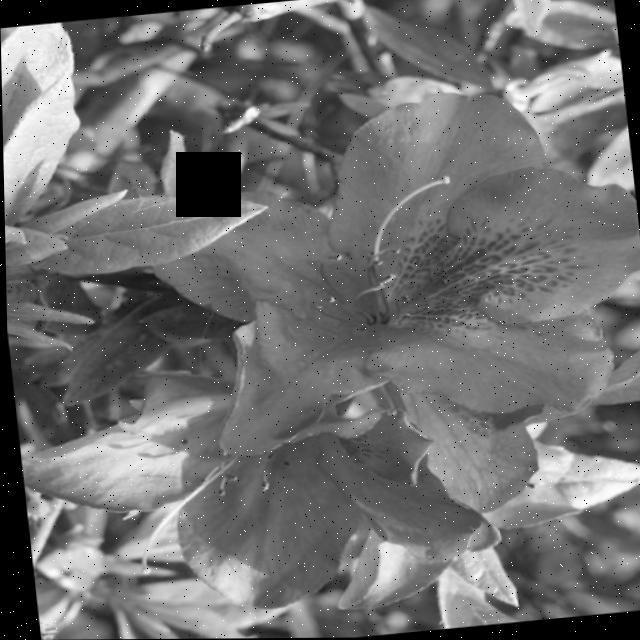azalea: (17, 298, 499, 640), (169, 103, 631, 440)
